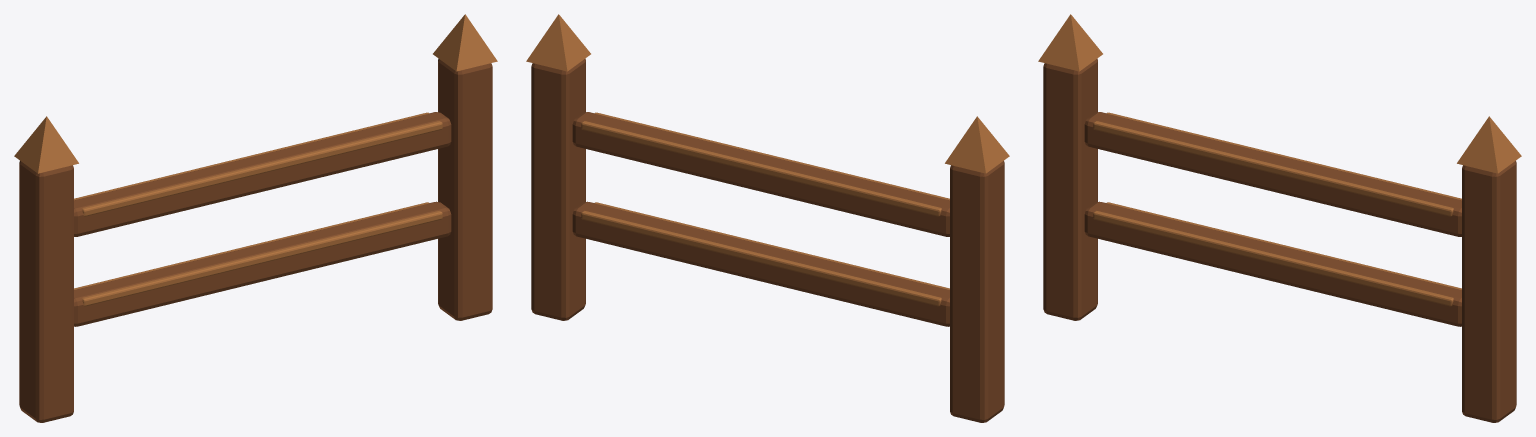
Rendered from FTF_Structure_Fence_DarkBrown_Straight_2m.glb.
3 renders of one model, left to right at view 1: azimuth 30°, elevation 25°; view 2: azimuth 150°, elevation 25°; view 3: azimuth 330°, elevation 25°, orthographic.
Visible parts, largest first — view 1: Left_Post, Right_Post, Middle_Rail_0, Middle_Rail_1, Middle_RailAccent_1, Middle_RailAccent_0, Left_Cap, Right_Cap; view 2: Left_Post, Right_Post, Middle_Rail_0, Middle_Rail_1, Middle_RailAccent_1, Middle_RailAccent_0, Left_Cap, Right_Cap; view 3: Right_Post, Left_Post, Middle_Rail_0, Middle_Rail_1, Middle_RailAccent_1, Middle_RailAccent_0, Right_Cap, Left_Cap.
Boxes of the visible parts, x1=… form: Left_Post: x1=19, y1=161, x2=73, y2=422; Right_Post: x1=438, y1=58, x2=492, y2=320; Middle_Rail_0: x1=74, y1=201, x2=451, y2=326; Middle_Rail_1: x1=74, y1=112, x2=451, y2=236; Middle_RailAccent_1: x1=74, y1=112, x2=442, y2=216; Middle_RailAccent_0: x1=74, y1=202, x2=442, y2=306; Left_Cap: x1=14, y1=116, x2=78, y2=173; Right_Cap: x1=433, y1=14, x2=497, y2=71; Left_Post: x1=950, y1=161, x2=1004, y2=422; Right_Post: x1=531, y1=58, x2=585, y2=320; Middle_Rail_0: x1=572, y1=201, x2=949, y2=326; Middle_Rail_1: x1=572, y1=112, x2=949, y2=236; Middle_RailAccent_1: x1=581, y1=112, x2=949, y2=216; Middle_RailAccent_0: x1=581, y1=202, x2=949, y2=306; Left_Cap: x1=945, y1=116, x2=1009, y2=173; Right_Cap: x1=526, y1=14, x2=590, y2=71; Right_Post: x1=1462, y1=161, x2=1516, y2=422; Left_Post: x1=1043, y1=58, x2=1097, y2=320; Middle_Rail_0: x1=1084, y1=201, x2=1461, y2=326; Middle_Rail_1: x1=1084, y1=112, x2=1461, y2=236; Middle_RailAccent_1: x1=1093, y1=112, x2=1461, y2=216; Middle_RailAccent_0: x1=1093, y1=202, x2=1461, y2=306; Right_Cap: x1=1457, y1=116, x2=1521, y2=173; Left_Cap: x1=1038, y1=14, x2=1102, y2=71.
Bounding box in the file's own units: 2.2 × 1.36 × 0.198.
